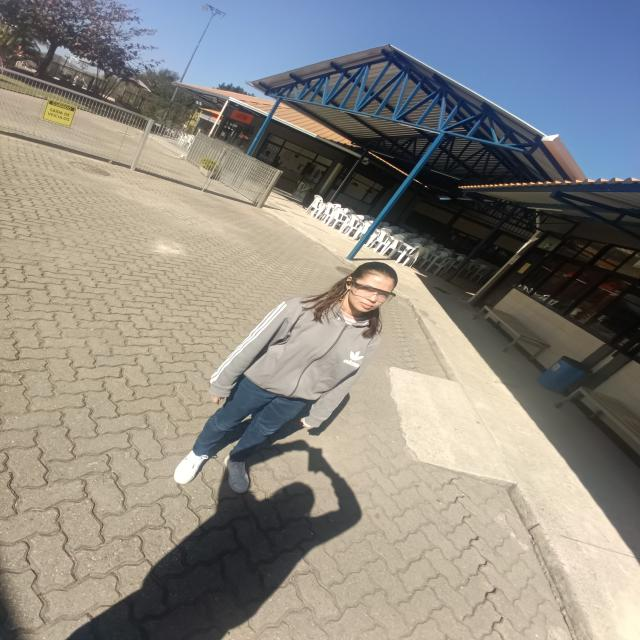oculos-epi: (351, 281, 396, 304)
